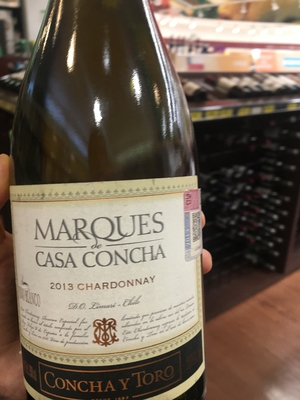marques de casa concha chardonnay: (14, 36, 216, 400)
